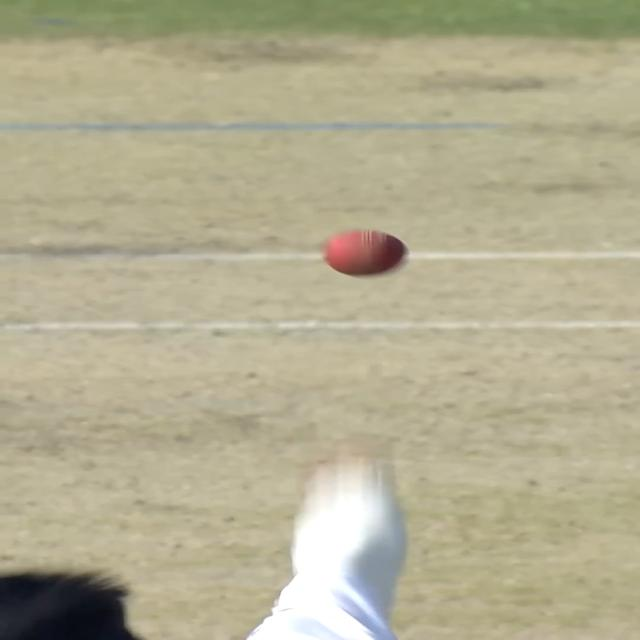Cricket ball: (320, 227, 410, 278)
